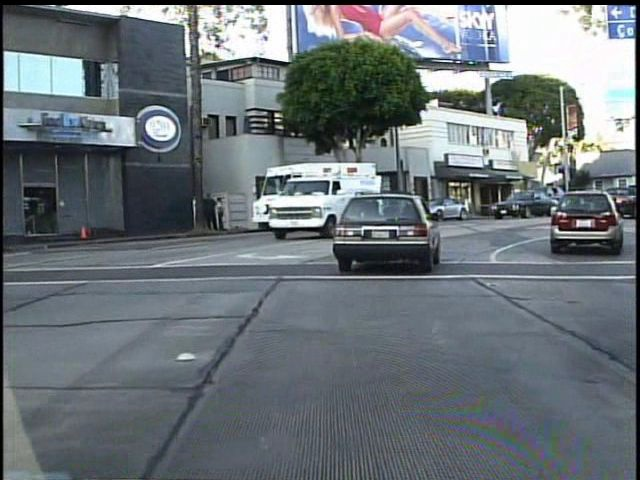person: (202, 191, 219, 234), (212, 195, 227, 233)
